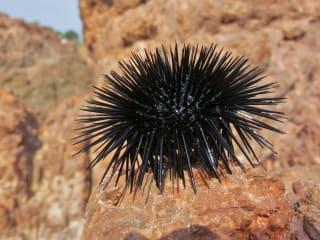urchin: (69, 39, 290, 193)
